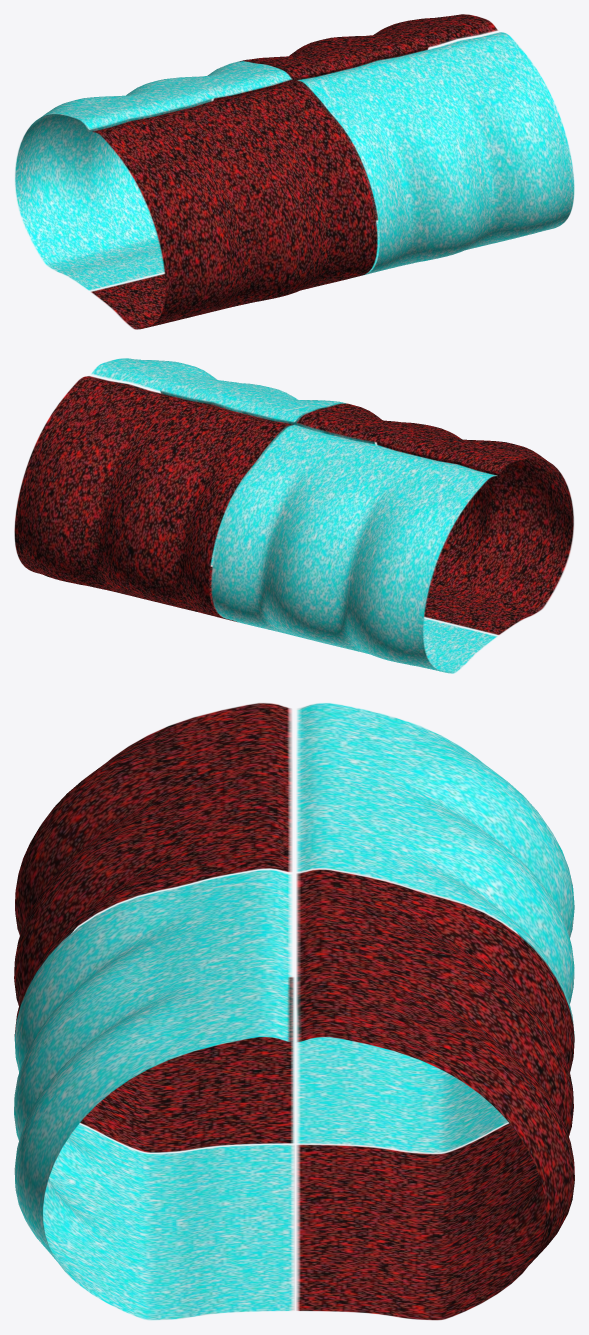
3 views of the same model, one above another, from view 1: azimuth 30°, elevation 25°; view 2: azimuth 150°, elevation 25°; view 3: azimuth 270°, elevation 25° (orthographic). The views are drawn at different scales.
Parts seen in each view (by area): view 1: SM_Tunnel_02_LOD0; view 2: SM_Tunnel_02_LOD0; view 3: SM_Tunnel_02_LOD0.
Part boxes in pixels (left/top/right/bottom): SM_Tunnel_02_LOD0: left=15, top=14, right=574, bottom=329; SM_Tunnel_02_LOD0: left=14, top=358, right=573, bottom=673; SM_Tunnel_02_LOD0: left=14, top=703, right=574, bottom=1320.
Bounding box in the file's own units: 10 × 3.95 × 7.07.
